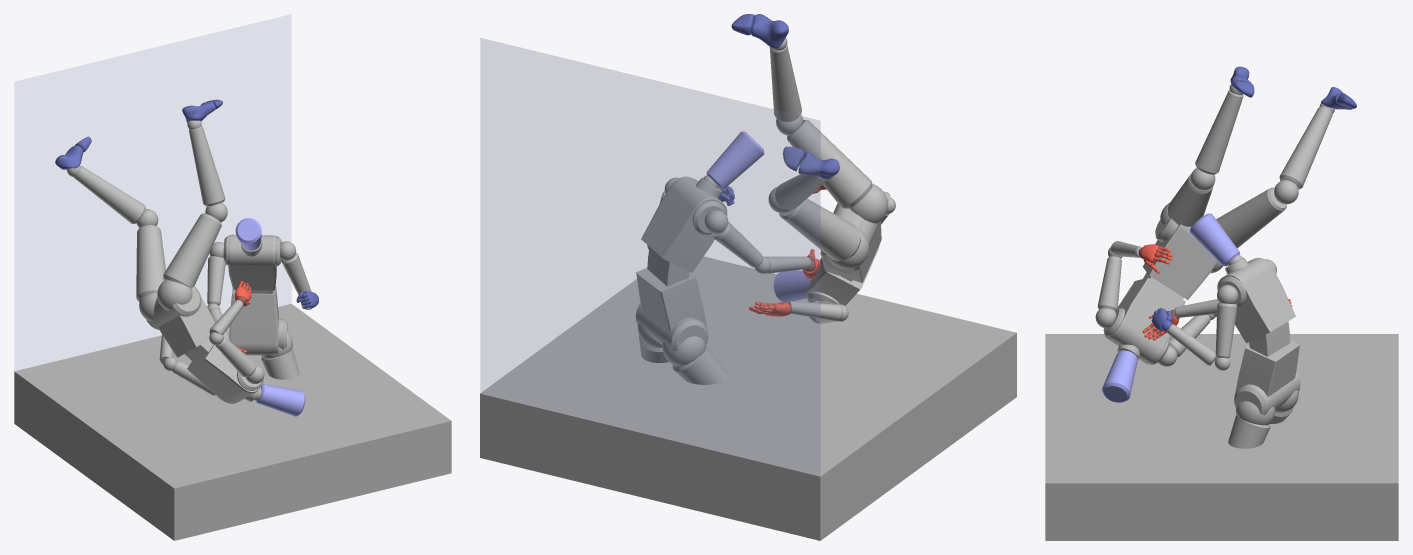
File: contact.glb
3 views of the same model, side by side, from view 1: azimuth 30°, elevation 25°; view 2: azimuth 150°, elevation 25°; view 3: azimuth 270°, elevation 25° (orthographic). The views are drawn at different scales.
Visible parts, largest first — view 1: pCube75, pCube78, pCube76 (×2), pCube77 (×2), pCylinder164 (×2), pCylinder161, pCylinder158 (×2), pCylinder163, pCylinder162, pCylinder166 (×2), pCylinder169, pSphere73 (+3 smaller); view 2: pCube75, pCube78, pCube77 (×2), pCylinder161 (×2), pCube76 (×2), pCylinder164, pCylinder158 (×2), pCylinder163, pCylinder167 (×2), pCylinder169, pasted__Beta_Surface16, pasted__Beta_Surface15 (+5 smaller); view 3: pCube78, pCube77 (×2), pCube76 (×2), pCylinder158 (×2), pCylinder164 (×2), pCylinder161, pCylinder166 (×2), pCylinder163, pCylinder162, pCylinder169 (×2), pPlane31, pCylinder165 (+7 smaller).
Boxes of the visible parts, x1=… form: pCube75: x1=14, y1=14, x2=291, y2=370; pCube78: x1=14, y1=303, x2=451, y2=540; pCube76 (×2): x1=157, y1=287, x2=278, y2=357; pCube77 (×2): x1=187, y1=234, x2=276, y2=403; pCylinder164 (×2): x1=163, y1=213, x2=299, y2=379; pCylinder161: x1=136, y1=225, x2=165, y2=301; pCylinder158 (×2): x1=235, y1=218, x2=305, y2=416; pCylinder163: x1=189, y1=126, x2=225, y2=206; pCylinder162: x1=73, y1=166, x2=145, y2=223; pCylinder166 (×2): x1=215, y1=252, x2=311, y2=377; pCylinder169: x1=146, y1=286, x2=201, y2=329; pSphere73: x1=157, y1=279, x2=192, y2=310; pCube75: x1=480, y1=38, x2=820, y2=475; pCube78: x1=480, y1=256, x2=1016, y2=540; pCube77 (×2): x1=641, y1=176, x2=879, y2=305; pCylinder161 (×2): x1=672, y1=198, x2=860, y2=384; pCube76 (×2): x1=636, y1=203, x2=881, y2=330; pCylinder164: x1=787, y1=119, x2=872, y2=208; pCylinder158 (×2): x1=706, y1=131, x2=811, y2=302; pCylinder163: x1=769, y1=44, x2=801, y2=122; pCylinder167 (×2): x1=766, y1=256, x2=843, y2=321; pCylinder169: x1=635, y1=303, x2=708, y2=351; pasted__Beta_Surface16: x1=731, y1=14, x2=788, y2=48; pasted__Beta_Surface15: x1=783, y1=146, x2=839, y2=178; pCube78: x1=1045, y1=334, x2=1398, y2=540; pCube77 (×2): x1=1105, y1=257, x2=1295, y2=364; pCube76 (×2): x1=1143, y1=224, x2=1299, y2=396; pCylinder158 (×2): x1=1102, y1=213, x2=1239, y2=402; pCylinder164 (×2): x1=1168, y1=173, x2=1270, y2=448; pCylinder161: x1=1216, y1=187, x2=1286, y2=248; pCylinder166 (×2): x1=1097, y1=256, x2=1237, y2=358; pCylinder163: x1=1195, y1=90, x2=1243, y2=174; pCylinder162: x1=1279, y1=106, x2=1332, y2=189; pCylinder169 (×2): x1=1155, y1=218, x2=1300, y2=415; pPlane31: x1=1249, y1=321, x2=1290, y2=356; pCylinder165: x1=1167, y1=324, x2=1216, y2=365.
Size of the model in its own units: 2.57 by 3.06 by 2.57.
